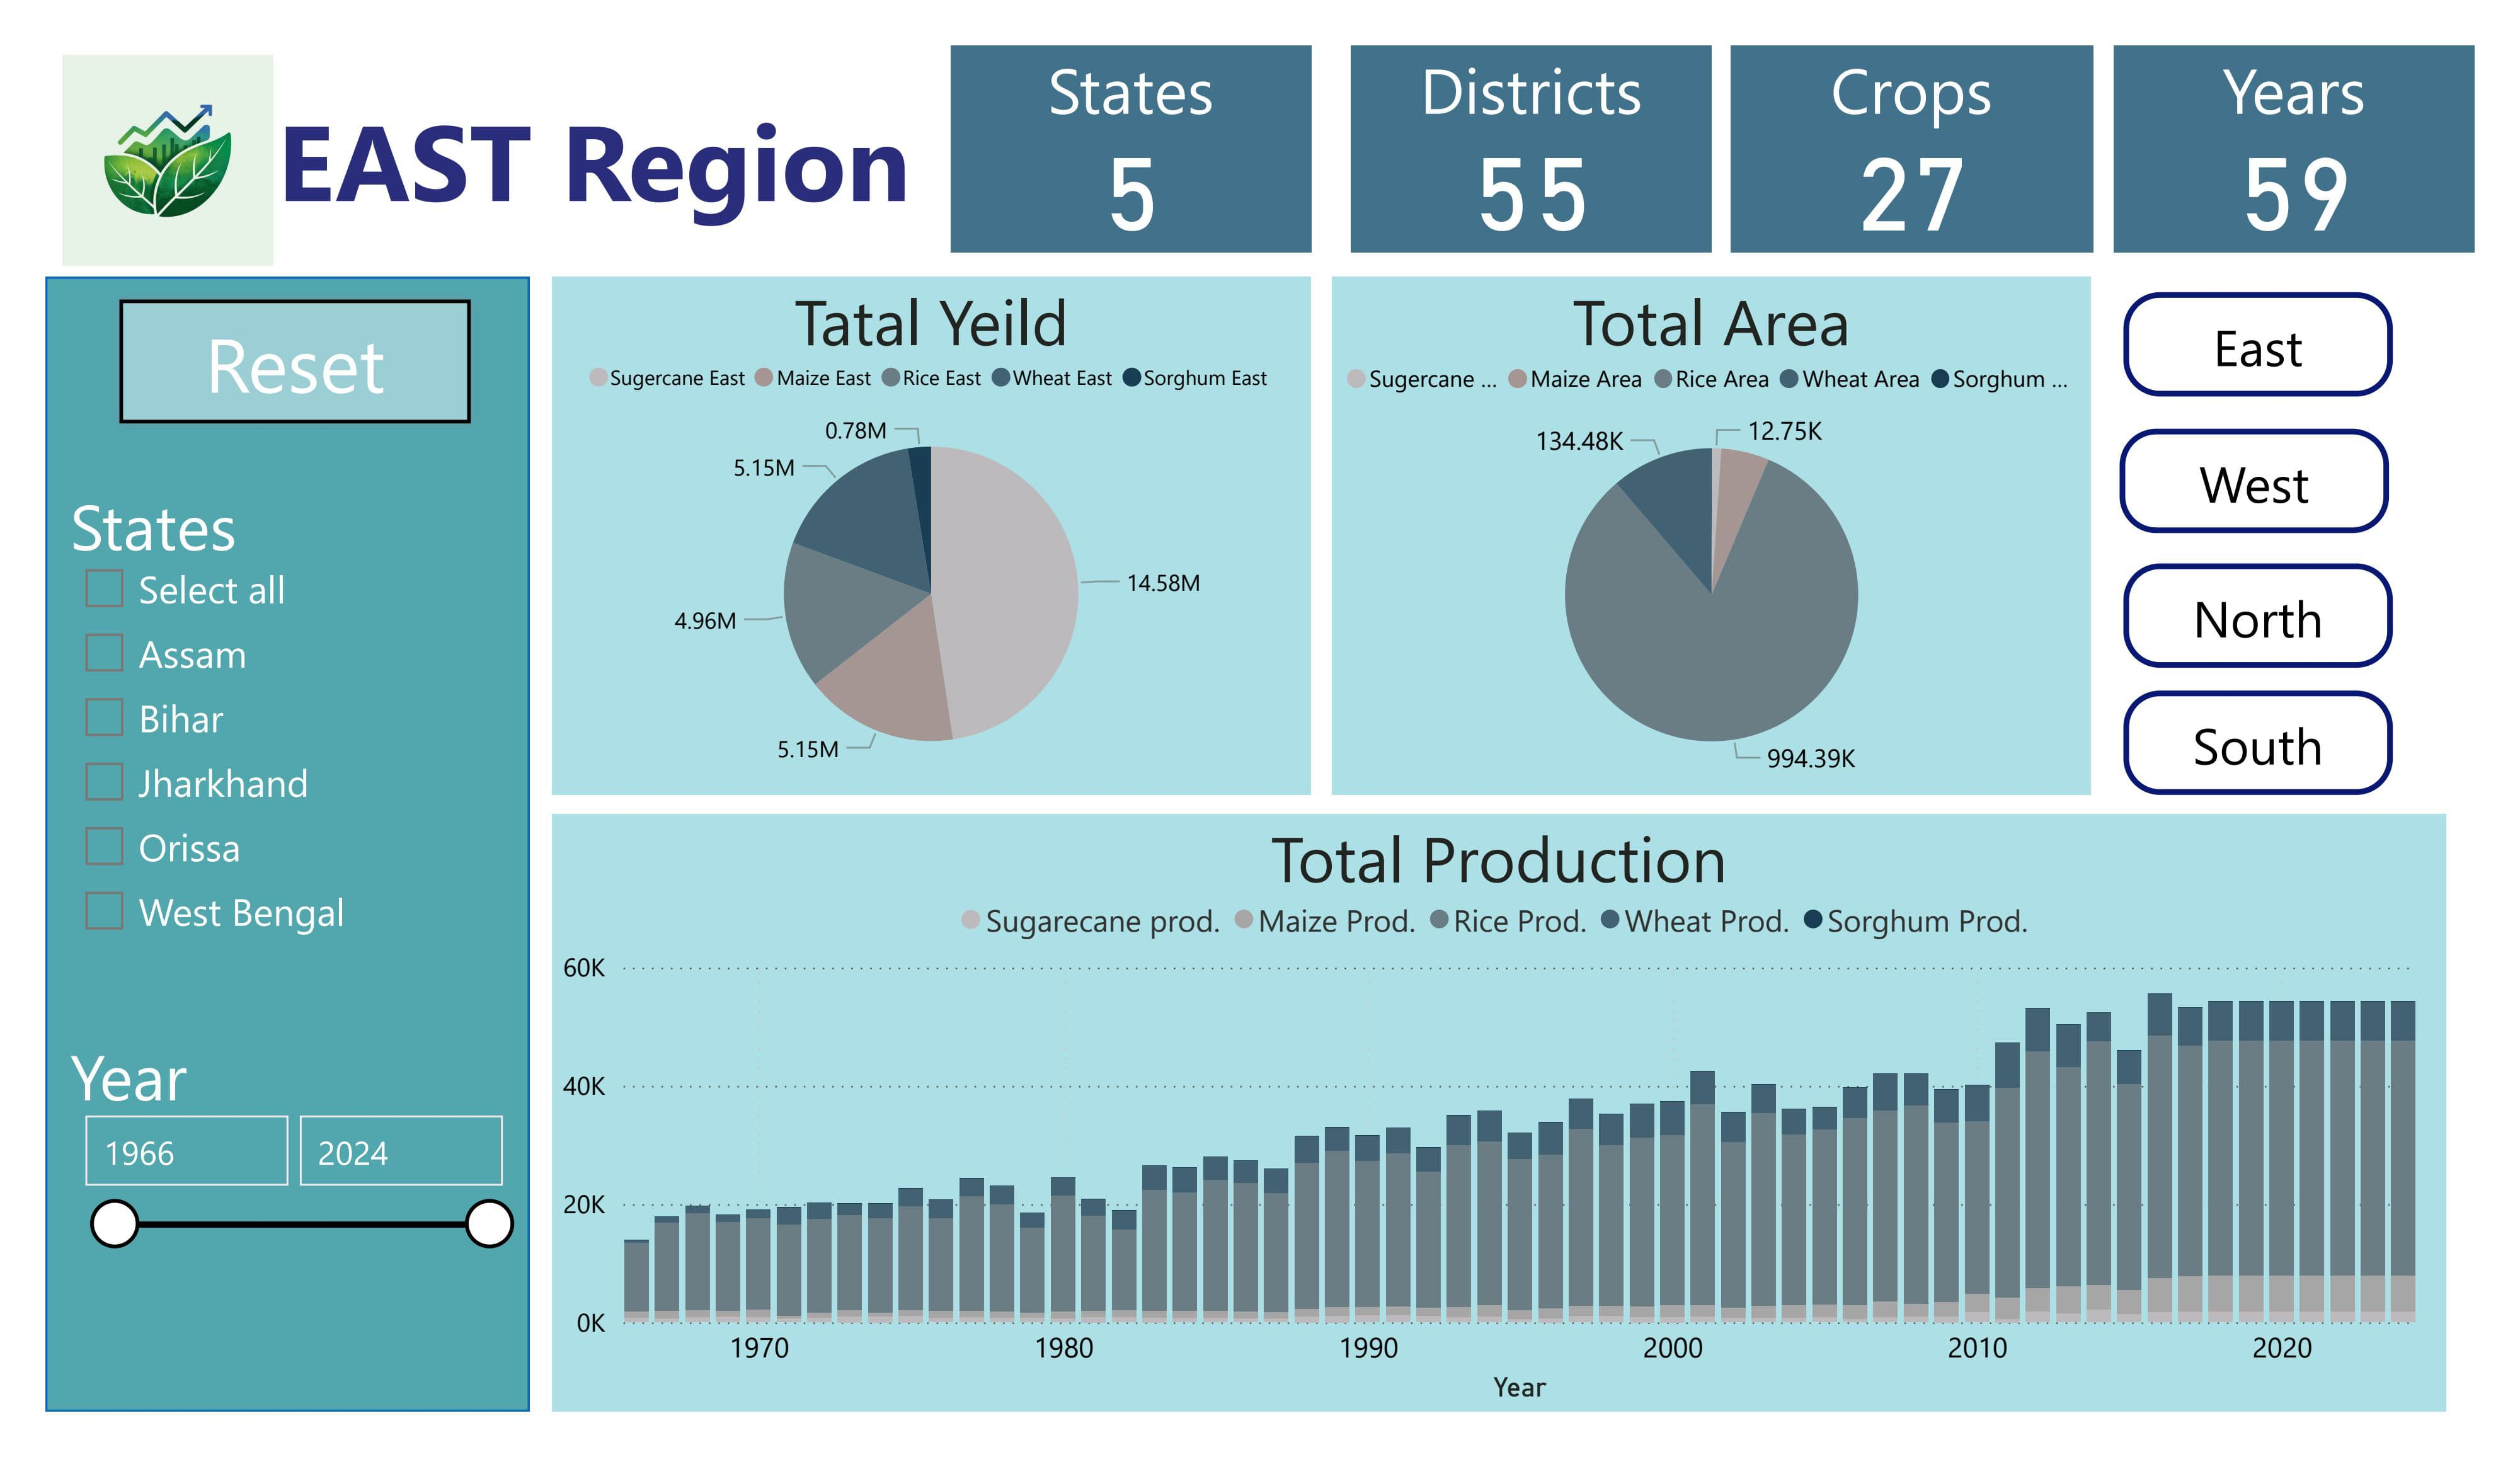

Layout of this report page (visuals, bound fields, positions):
{"tool":"powerbi","page":{"name":"EAST","canvas":[1280,720],"ordinal":2},"visuals":[{"type":"shape","box":[0,121.7,255,598.3],"z":0},{"type":"slicer","title":"States","fields":{"Values":["EAST.State Name"]},"box":[8.3,230,246.7,260],"z":1000},{"type":"slicer","title":"Year","fields":{"Values":["EAST.Year"]},"box":[8.3,520,246.7,143.3],"z":2000},{"type":"textbox","box":[8.6,17.3,468,92.2],"z":3000},{"type":"card","title":"States","fields":{"Values":["Count(EAST.State Name)"]},"box":[476.6,0,190.1,109.4],"z":4000},{"type":"card","title":"Districts","fields":{"Values":["Count(EAST.Dist Name)"]},"box":[688.3,0,190.1,109.4],"z":5000},{"type":"card","title":"Crops","fields":{"Values":["Avg(EAST.Crops)"]},"box":[888.5,0,190.1,109.4],"z":6000},{"type":"card","title":"Years","fields":{"Values":["Count(EAST.Year)"]},"box":[1090.1,0,190.1,109.4],"z":7000},{"type":"pieChart","title":"Tatal Yeild","fields":{"Y":["EAST.Sugrecane East","EAST.Maize East","EAST.Rice East","EAST.Wheat East","EAST.Sorghum East"]},"box":[266.7,121.7,400,273.3],"z":8000},{"type":"pieChart","title":"Total Area","fields":{"Y":["EAST.Sugercane Area","EAST.Maize Area","EAST.Rice Area","EAST.Wheat Area","EAST.Sorghum Area"]},"box":[678.3,121.7,400,273.3],"z":9000},{"type":"lineStackedColumnComboChart","title":"Total Production","fields":{"Category":["EAST.Year"],"Y":["EAST.Sugarecane prod.","EAST.Maize Prod.","EAST.Rice Prod.","EAST.Wheat Prod.","EAST.Sorghum Prod."]},"box":[266.7,405,998.3,315],"z":10000},{"type":"actionButton","box":[35,130,193.3,73.3],"z":11000},{"type":"actionButton","title":"West","box":[1093.3,201.7,141.7,55],"z":12000},{"type":"actionButton","box":[1095,273.3,141.7,55],"z":13000},{"type":"actionButton","box":[1095,340,141.7,55],"z":14000},{"type":"actionButton","box":[1095,130,141.7,55],"z":15000},{"type":"image","box":[0,0,128.2,121],"z":15001}]}

Visuals, with their boxes in screenshot pixels (x1, y1, x2, y2), scaled from the page's 1280x720 canvas onto the 2520x1457 screenshot:
shape: l=0, t=246, r=502, b=1456
"States" slicer: l=16, t=466, r=502, b=991
"Year" slicer: l=16, t=1052, r=502, b=1342
textbox: l=17, t=35, r=938, b=222
"States" card: l=938, t=0, r=1312, b=221
"Districts" card: l=1355, t=0, r=1729, b=221
"Crops" card: l=1750, t=0, r=2124, b=221
"Years" card: l=2146, t=0, r=2519, b=221
"Tatal Yeild" pieChart: l=525, t=246, r=1312, b=799
"Total Area" pieChart: l=1336, t=246, r=2123, b=799
"Total Production" lineStackedColumnComboChart: l=525, t=820, r=2490, b=1456
actionButton: l=69, t=263, r=449, b=411
"West" actionButton: l=2153, t=408, r=2431, b=520
actionButton: l=2156, t=553, r=2435, b=665
actionButton: l=2156, t=688, r=2435, b=799
actionButton: l=2156, t=263, r=2435, b=374
image: l=0, t=0, r=253, b=245
